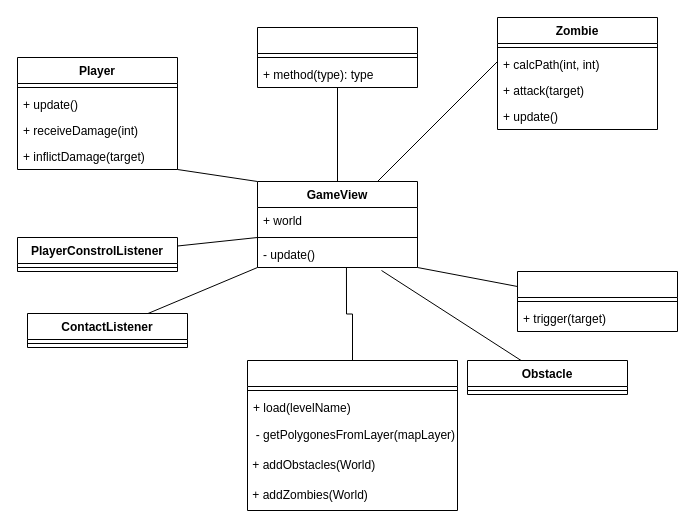
Image size: 695x528. Some labels were removed from this diagram. Here are the shapes that lost their labels. From the top down, the box of each, then its label:
(256, 26, 418, 88): Pluton
(516, 270, 678, 332): AcidPuddle
(246, 360, 458, 510): LevelLoader
